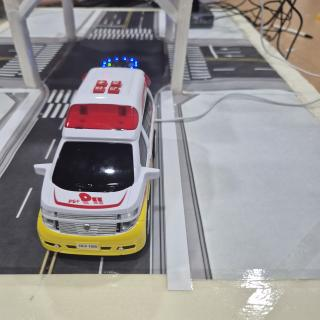Ambulance: (34, 67, 160, 256)
